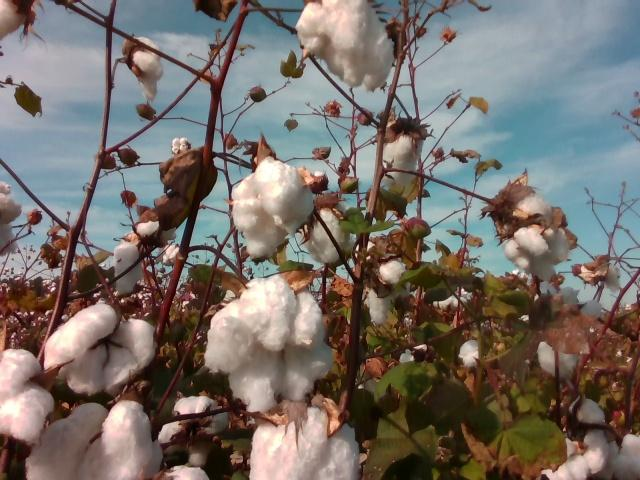cotton_ready: (205, 276, 334, 415), (24, 399, 156, 480), (46, 305, 155, 397), (296, 0, 395, 91), (232, 157, 318, 259), (250, 406, 361, 480), (542, 399, 640, 480), (0, 349, 55, 442), (159, 396, 231, 465), (504, 226, 573, 278), (303, 204, 358, 265), (493, 189, 556, 235), (381, 120, 425, 184), (126, 35, 164, 104), (539, 282, 603, 319), (368, 283, 411, 324), (0, 182, 22, 257), (114, 241, 144, 295), (538, 339, 578, 379), (0, 1, 33, 40), (597, 256, 621, 293), (375, 256, 407, 283), (165, 465, 214, 480), (137, 221, 180, 237), (458, 340, 480, 369), (399, 344, 428, 363), (156, 244, 182, 265), (171, 138, 189, 155)
